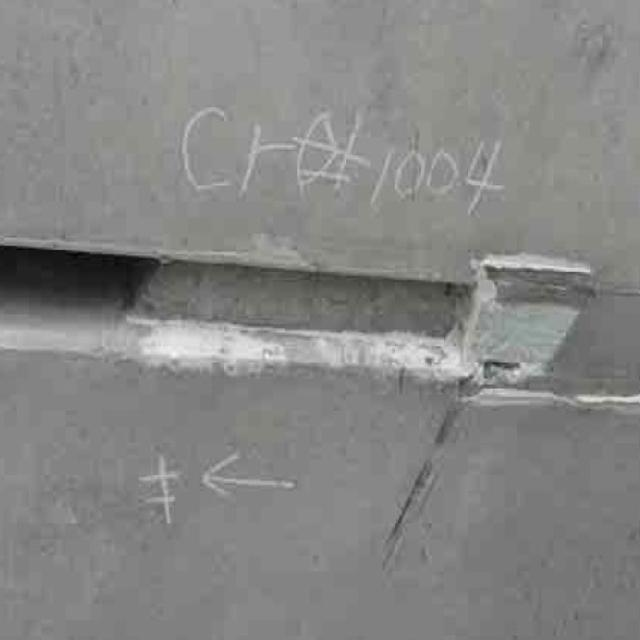freelime: (139, 262, 580, 387)
